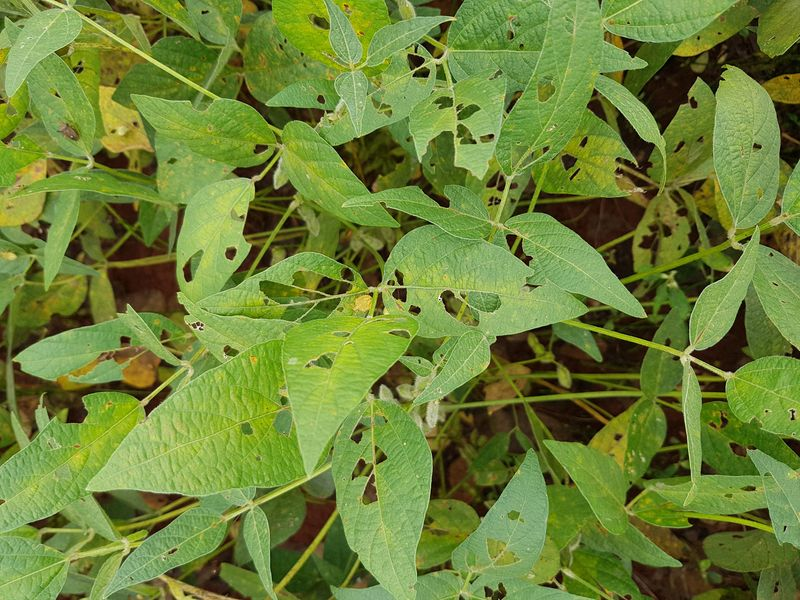Euschistus_heros_adulto: (51, 115, 84, 147)
Euschistus_heros_ninfa: (349, 289, 378, 318)
